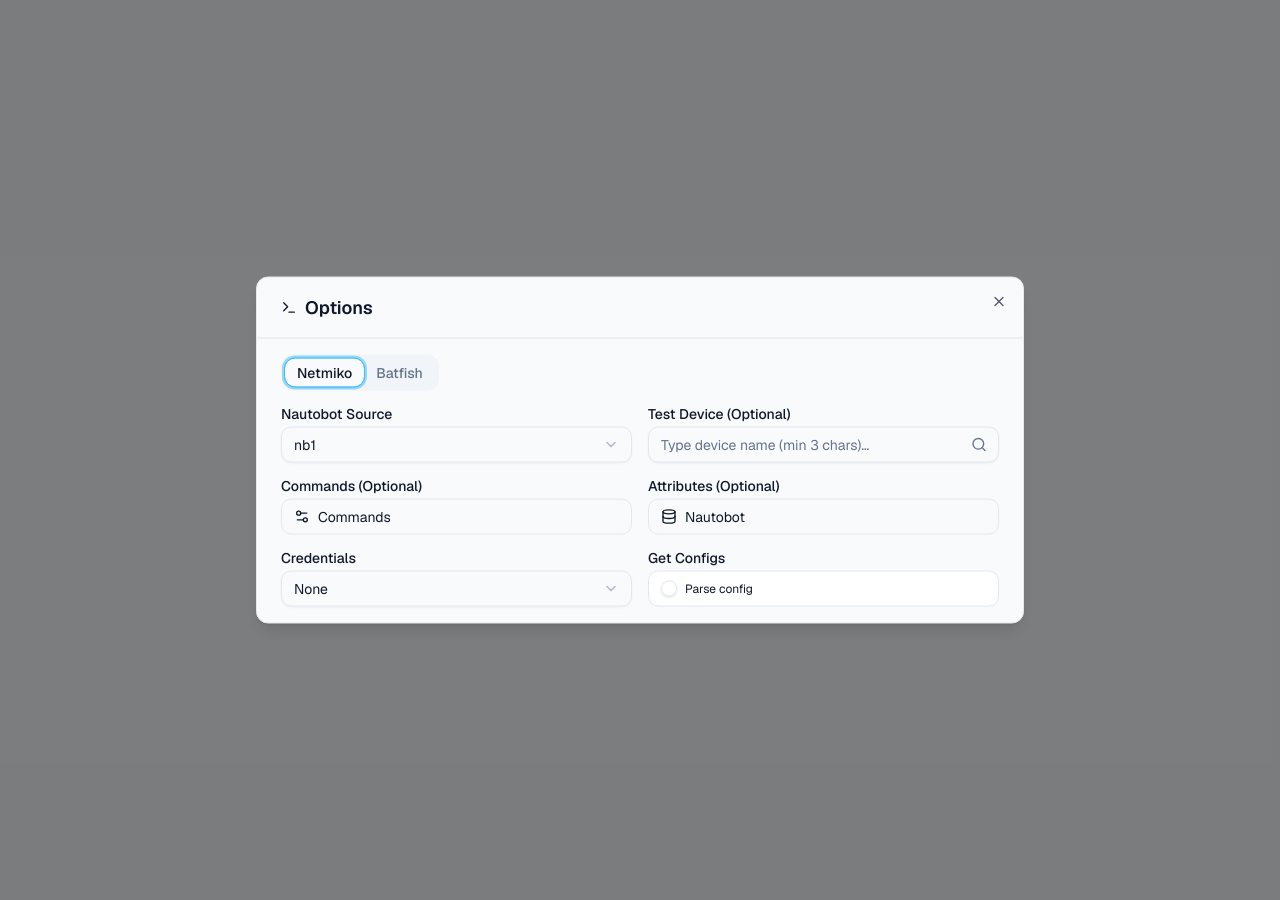
Test: OptionsDialog › test device search › selects a device, fills the box and hides the list
Type "edge" into the field labelled "Test Device (Optional)".
click(824, 444); type("edge")  # box 648,426 -> 999,462
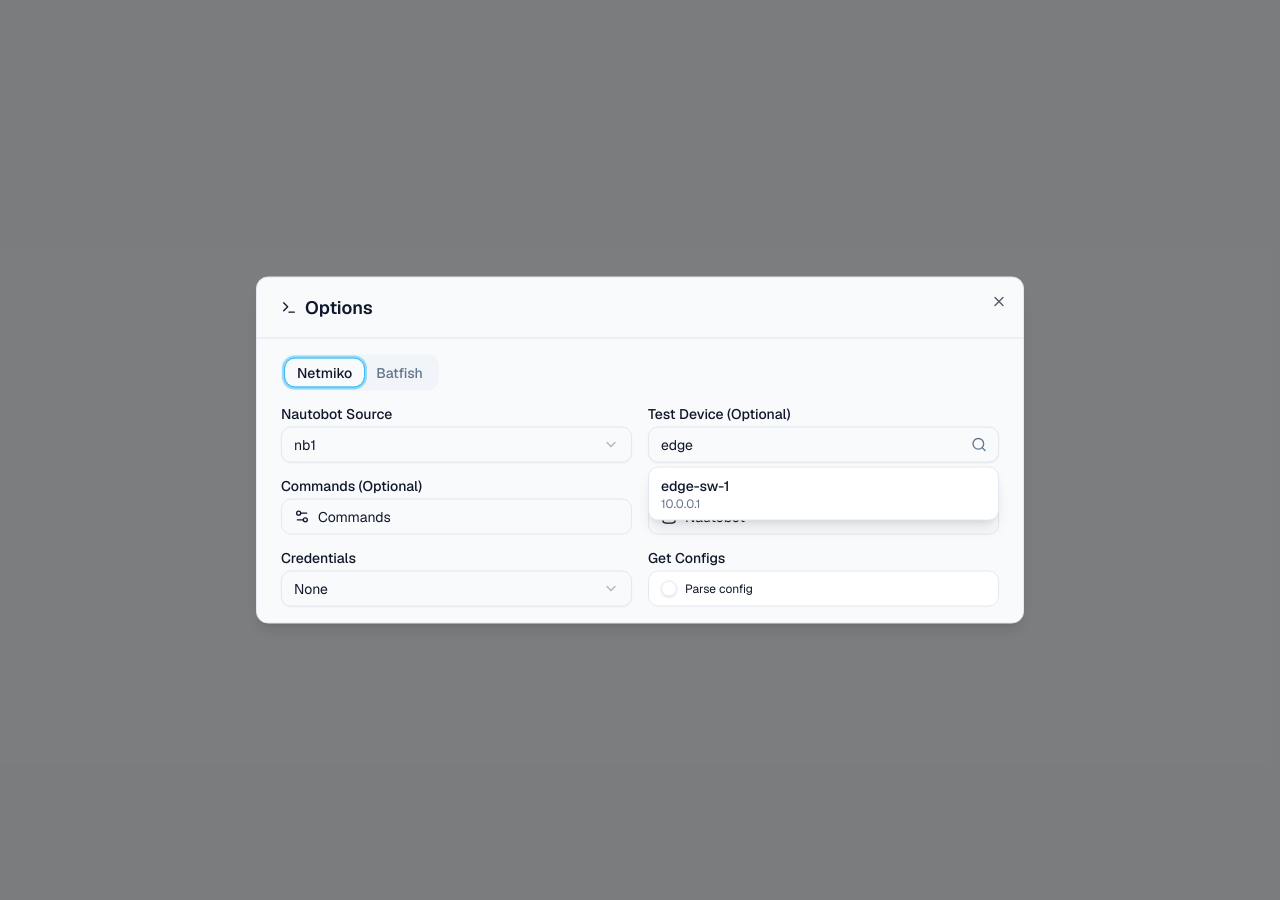
Click the text "edge-sw-1".
click(695, 486)  # box 661,476 -> 730,494
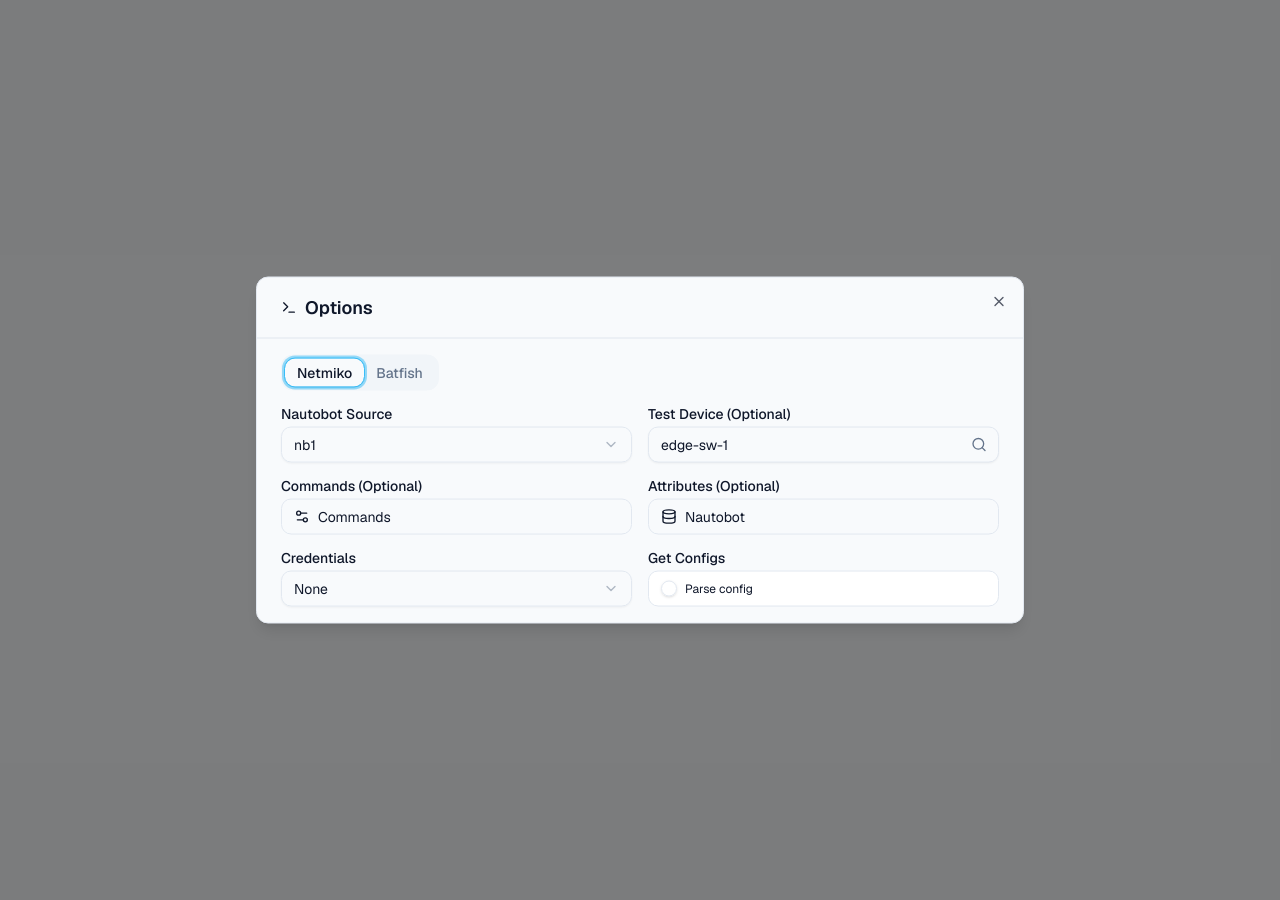
Expected: the field labelled "Test Device (Optional)" holds "edge-sw-1", 648,426 -> 999,462
Expected: the button "10.0.0.1" is gone
